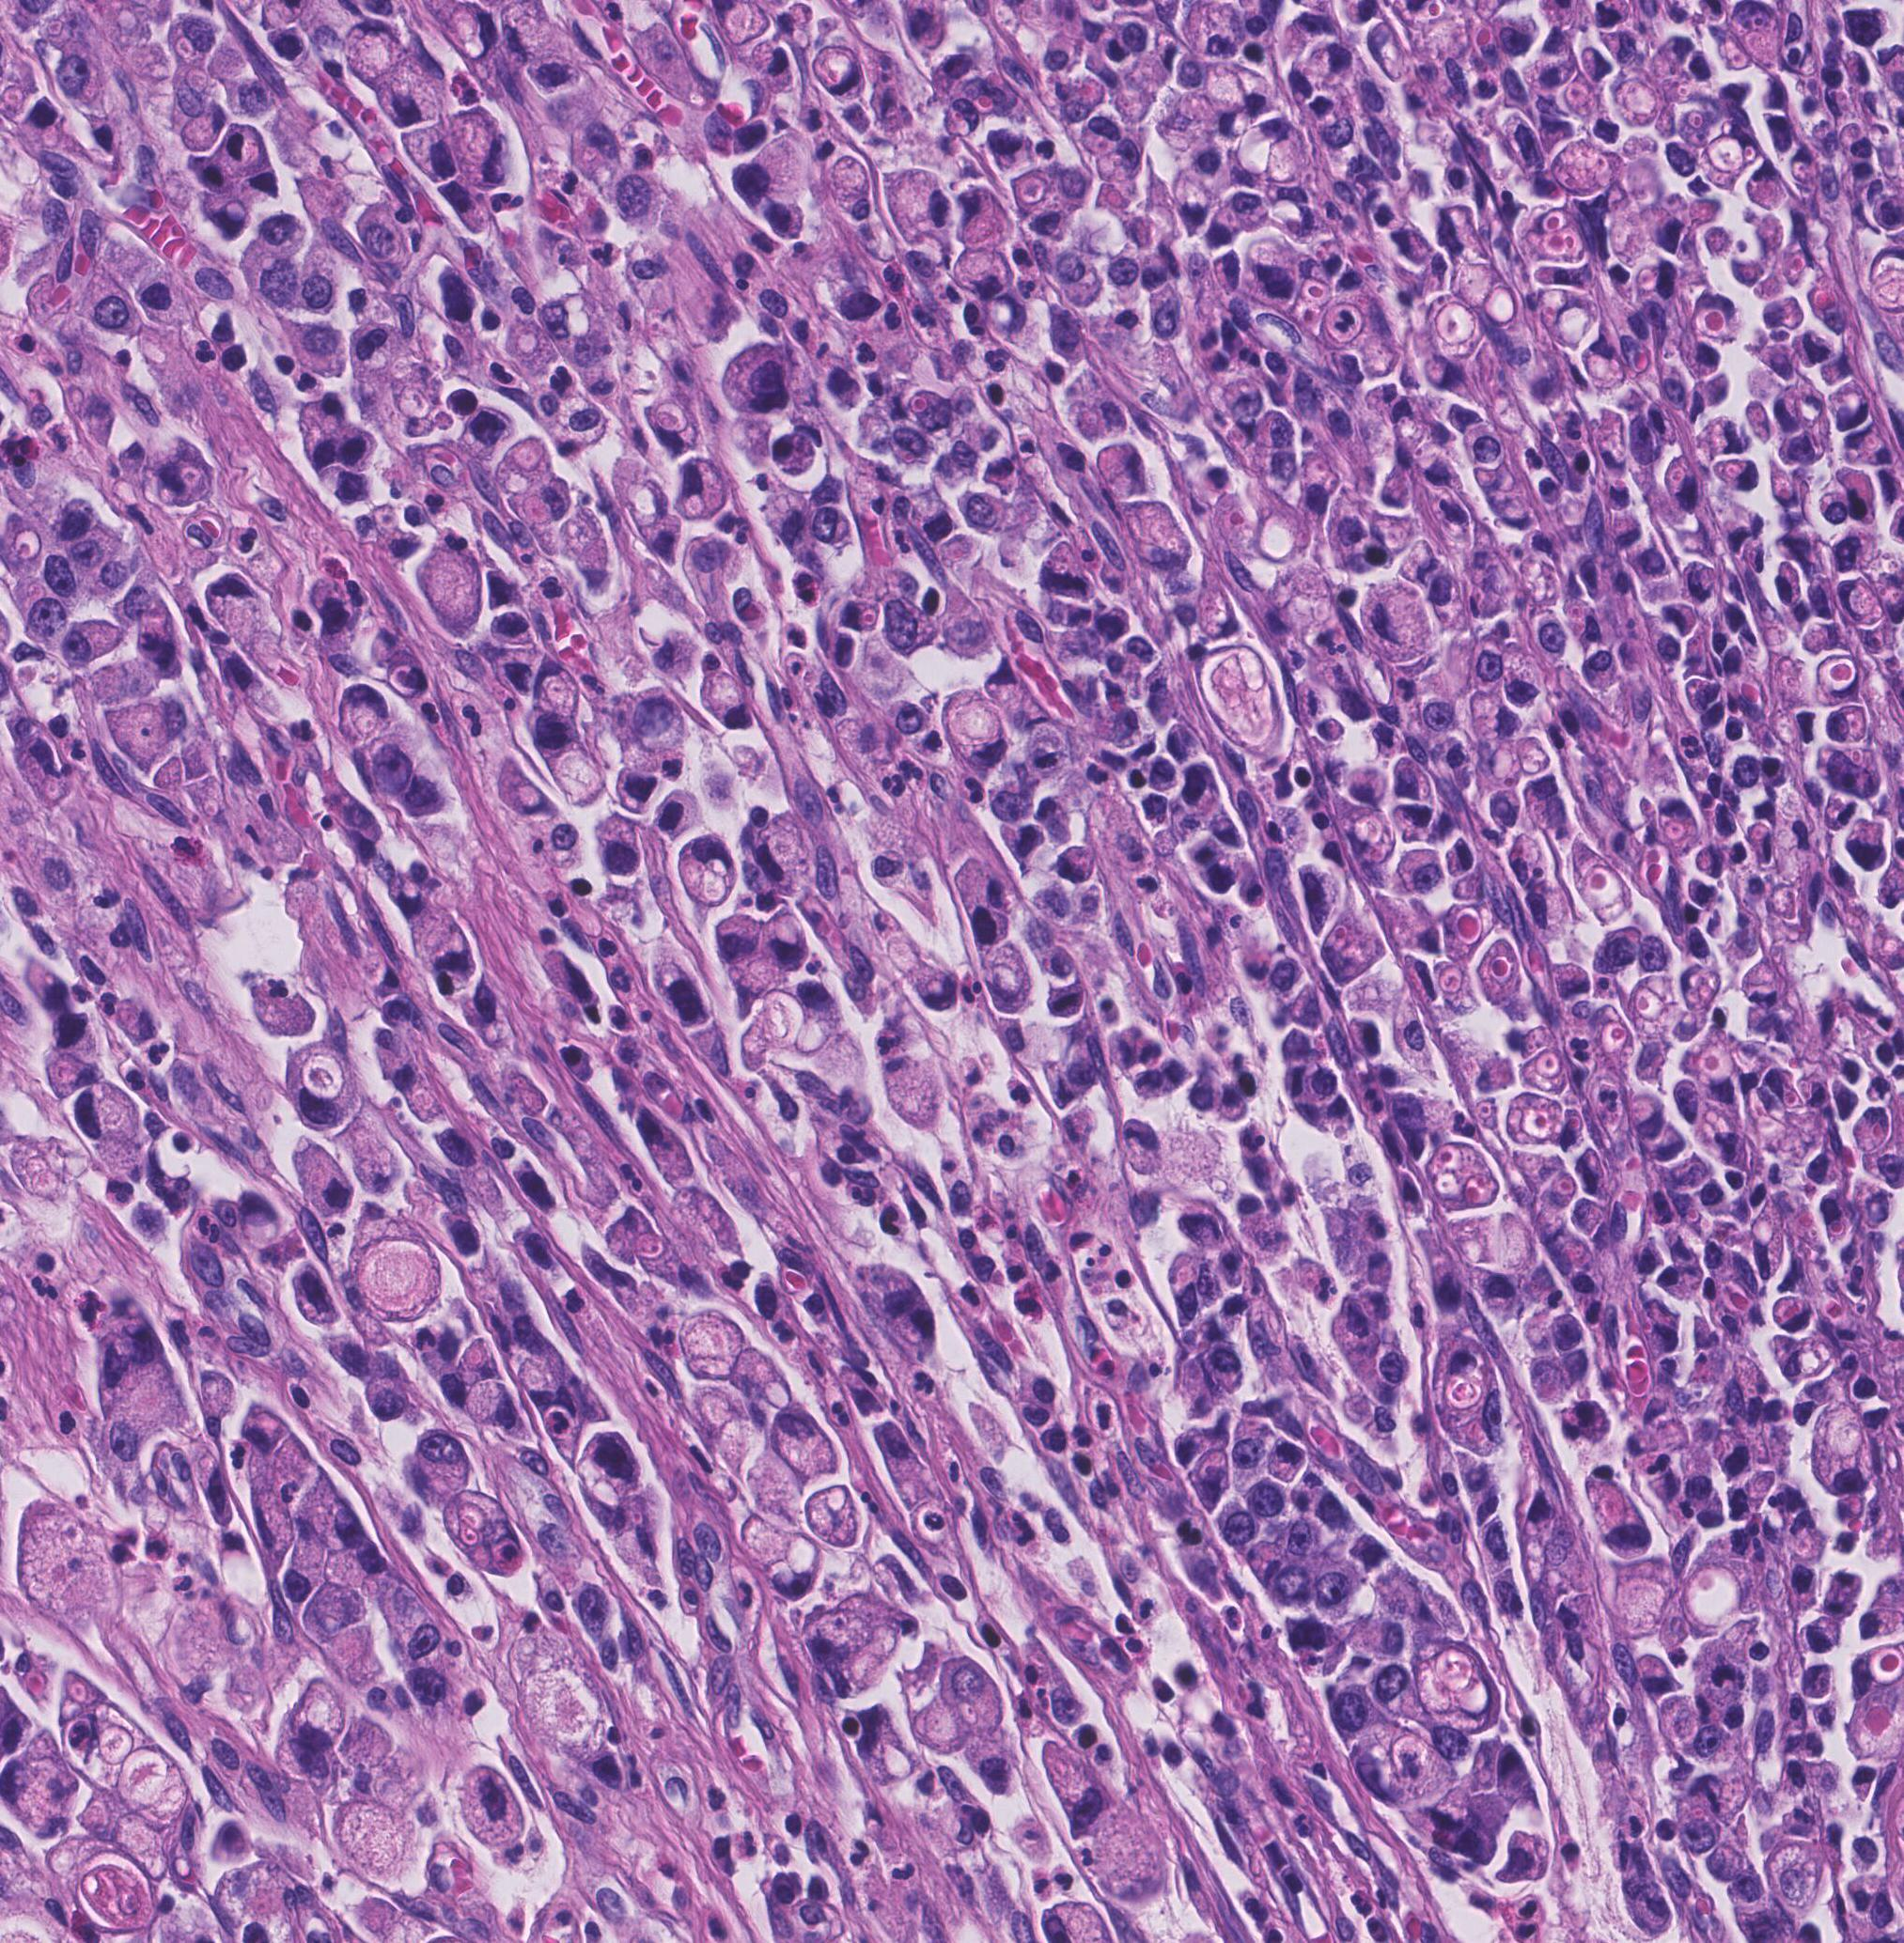ring_cell_cancer: (1184, 647, 1290, 756), (342, 1236, 445, 1321), (1346, 1722, 1451, 1804), (1416, 1642, 1503, 1732), (441, 1486, 525, 1581), (530, 711, 609, 809), (410, 533, 485, 634), (408, 910, 488, 997), (328, 1800, 417, 1879), (615, 464, 685, 561), (568, 1436, 642, 1528), (1580, 1467, 1653, 1558), (741, 1518, 821, 1600), (1037, 1743, 1112, 1830), (1091, 1818, 1166, 1903), (281, 1042, 356, 1126), (1810, 1399, 1873, 1497), (936, 694, 1010, 775), (1358, 584, 1435, 659), (206, 573, 270, 659), (816, 1636, 896, 1701), (448, 105, 511, 186), (772, 1399, 837, 1478), (722, 342, 792, 413), (884, 166, 952, 239), (767, 985, 844, 1049), (558, 509, 614, 596), (673, 1309, 743, 1378), (1121, 504, 1194, 570), (877, 1058, 942, 1129), (408, 1432, 474, 1500), (1241, 118, 1309, 183), (143, 448, 213, 509), (673, 836, 734, 904), (1517, 206, 1585, 267), (755, 816, 809, 890), (746, 1450, 804, 1520), (732, 1349, 795, 1412), (291, 1675, 343, 1750), (75, 1084, 139, 1143), (347, 21, 406, 85), (1022, 716, 1079, 782), (1541, 288, 1599, 352), (804, 1601, 870, 1657), (825, 159, 877, 228), (593, 812, 645, 880), (671, 457, 729, 518), (396, 125, 457, 183), (806, 1483, 861, 1546), (642, 396, 704, 451), (1243, 240, 1299, 303), (439, 3, 500, 59), (982, 948, 1030, 1016), (466, 1373, 523, 1431), (438, 178, 495, 235), (697, 674, 753, 734), (1702, 1769, 1758, 1826), (1091, 446, 1153, 498), (717, 1417, 769, 1478), (811, 44, 867, 99), (959, 186, 1011, 246), (1346, 810, 1400, 866), (535, 657, 582, 720), (765, 910, 811, 974), (1559, 139, 1611, 195), (234, 1188, 282, 1248), (950, 247, 1010, 296), (1738, 958, 1791, 1012), (1193, 584, 1240, 643), (1583, 335, 1630, 394), (1179, 91, 1238, 138), (335, 685, 387, 737), (1662, 451, 1702, 518), (713, 911, 765, 962), (689, 1387, 741, 1438), (1705, 132, 1754, 186), (1838, 575, 1887, 627), (1616, 78, 1665, 131), (1369, 21, 1407, 85), (221, 122, 269, 174), (1479, 739, 1524, 793), (1119, 1117, 1163, 1173), (1658, 796, 1700, 854), (455, 1333, 502, 1384), (1522, 885, 1573, 932), (654, 631, 701, 681), (1173, 173, 1214, 232), (1813, 653, 1864, 699), (1845, 819, 1888, 871), (1234, 63, 1276, 117), (1775, 383, 1824, 429), (1695, 293, 1740, 342), (1632, 1654, 1681, 1699), (513, 481, 568, 519), (915, 964, 959, 1012), (1681, 965, 1724, 1014), (1506, 829, 1545, 883), (772, 436, 821, 477), (1651, 28, 1693, 77), (1852, 1105, 1892, 1154), (1749, 160, 1785, 213), (506, 777, 549, 821), (1697, 416, 1752, 450), (1712, 458, 1765, 493), (1681, 559, 1721, 605), (1826, 707, 1874, 744), (1831, 385, 1871, 429), (1480, 282, 1520, 326), (1629, 1093, 1667, 1138), (1308, 45, 1350, 85), (389, 871, 427, 915), (1771, 1295, 1813, 1333), (1660, 1267, 1707, 1300), (1644, 1122, 1684, 1161), (837, 601, 882, 634), (1768, 465, 1801, 511), (943, 99, 982, 138), (1055, 845, 1095, 882), (1803, 1617, 1841, 1654), (1742, 823, 1777, 863), (1791, 141, 1822, 185), (1824, 793, 1859, 831), (1576, 47, 1613, 80), (1697, 845, 1724, 880)
